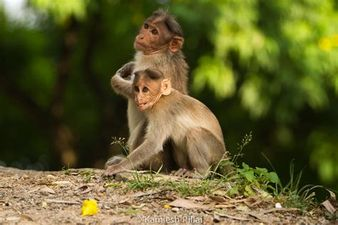monkey: (102, 12, 279, 149), (115, 63, 291, 185)
